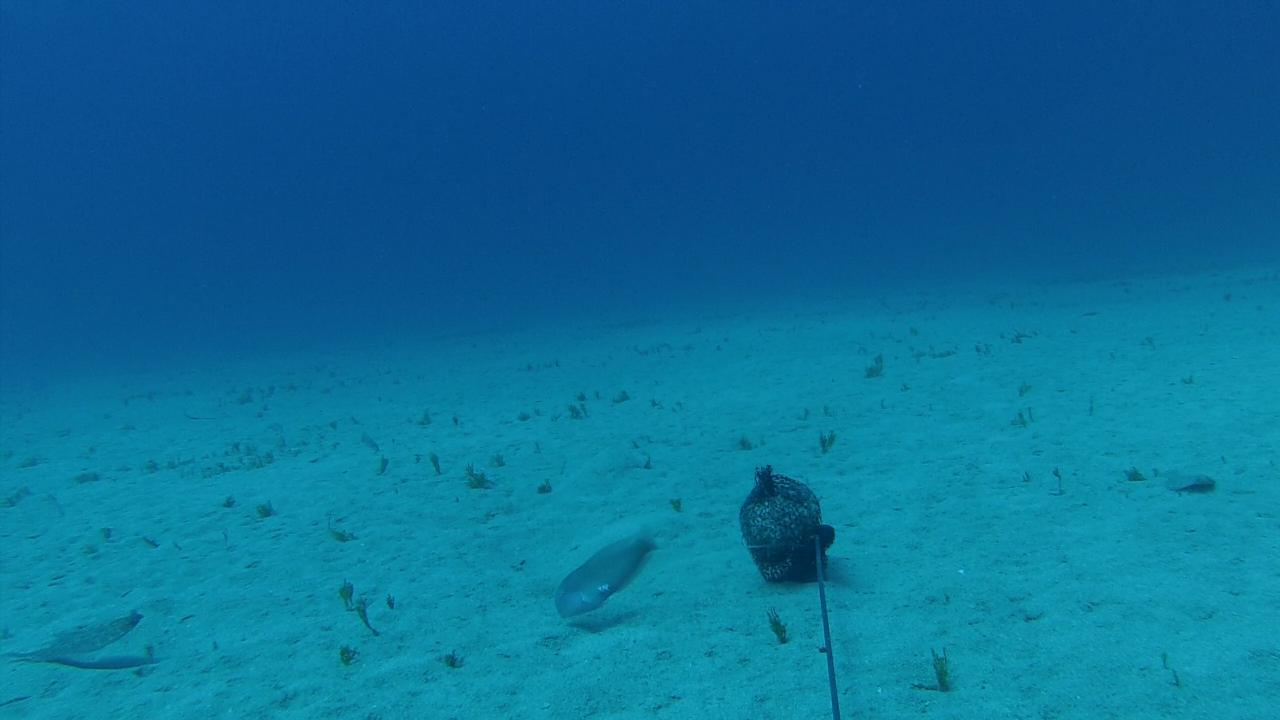bothus: (0, 608, 143, 661), (1158, 469, 1215, 491)
raor: (553, 524, 668, 624)
